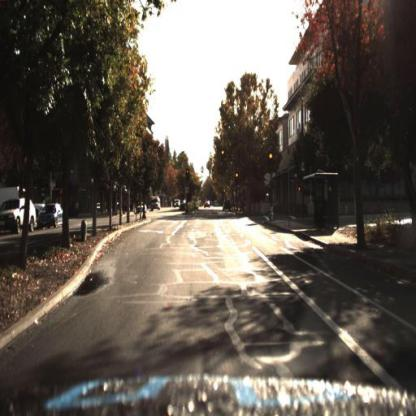car: (1, 197, 37, 240), (1, 197, 39, 235), (39, 198, 69, 231), (42, 203, 66, 229), (135, 202, 149, 216), (150, 196, 162, 212), (172, 195, 182, 213), (223, 201, 233, 214), (137, 203, 147, 215), (173, 196, 181, 211)
trafficLight: (218, 149, 226, 165)
trafficLight-Red: (268, 153, 275, 172), (185, 166, 192, 181), (236, 169, 241, 184)
trafficLight-RedLeft: (185, 169, 193, 185)
trafficLight-Yellow: (268, 150, 275, 162), (233, 172, 240, 180)
